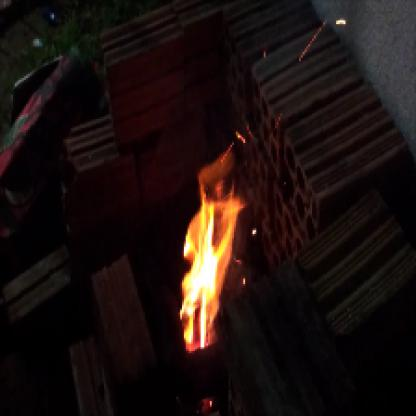Fire: (178, 124, 260, 353)
